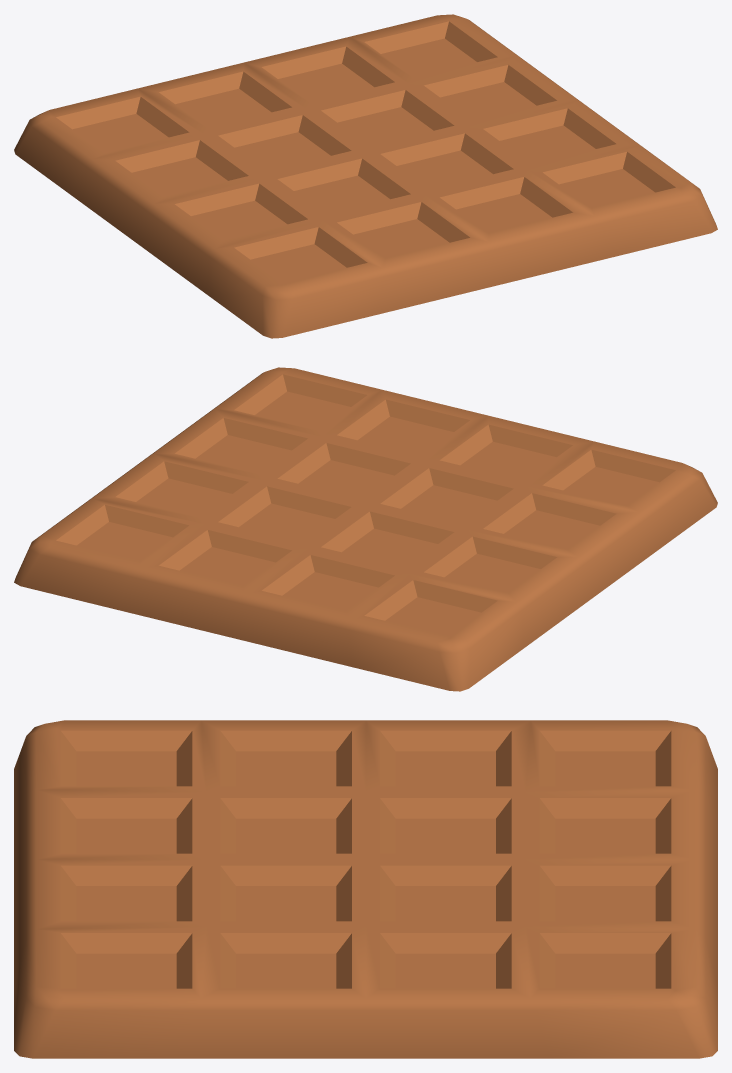
The model's file is Waffle_01.fbx.
3 renders of one model, top to bottom at view 1: azimuth 30°, elevation 25°; view 2: azimuth 150°, elevation 25°; view 3: azimuth 270°, elevation 25°, orthographic. The views are drawn at different scales.
Parts seen in each view (by area): view 1: Waffle_01; view 2: Waffle_01; view 3: Waffle_01.
Boxes of the visible parts, left/top/right/bottom form: Waffle_01: left=14, top=14, right=717, bottom=338; Waffle_01: left=14, top=367, right=717, bottom=691; Waffle_01: left=14, top=720, right=717, bottom=1058.
Bounding box in the file's own units: 0.1167 × 0.0092 × 0.1167.
